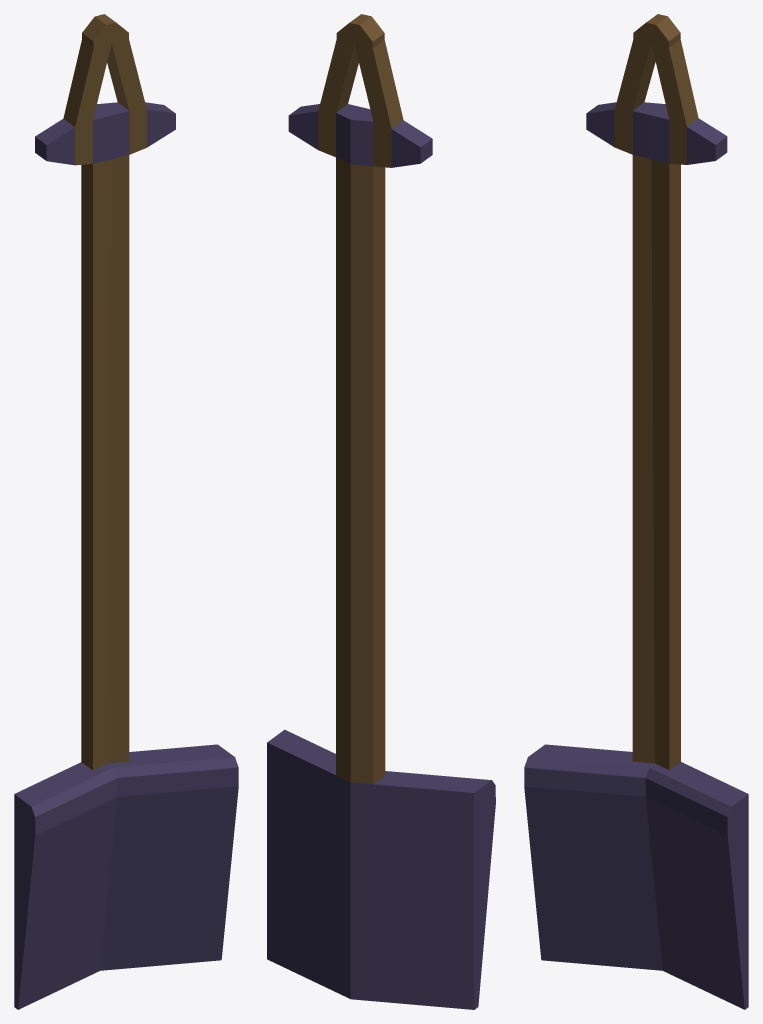
File: graveyardShovel.fbx
3 renders of one model, left to right at view 1: azimuth 30°, elevation 25°; view 2: azimuth 150°, elevation 25°; view 3: azimuth 330°, elevation 25°, orthographic.
Parts seen in each view (by area): view 1: Cube; view 2: Cube; view 3: Cube.
Boxes of the visible parts, x1,y1,x2,y2 form: Cube: (14,14,238,1009); Cube: (267,14,495,1009); Cube: (524,14,748,1009).
Size of the model in its own units: 200 by 897 by 69.23.
